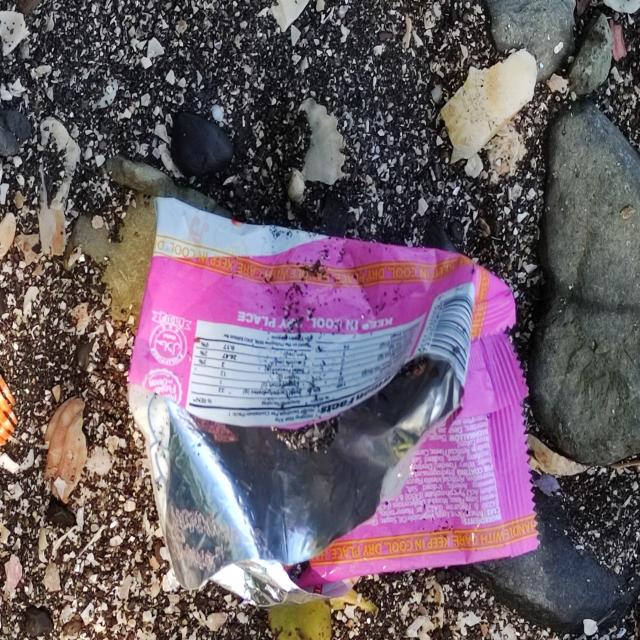plastic_waste: (128, 198, 540, 636)
